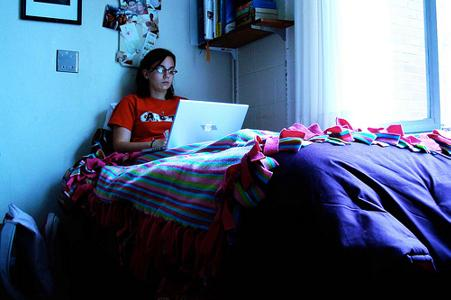person: (107, 49, 190, 156)
